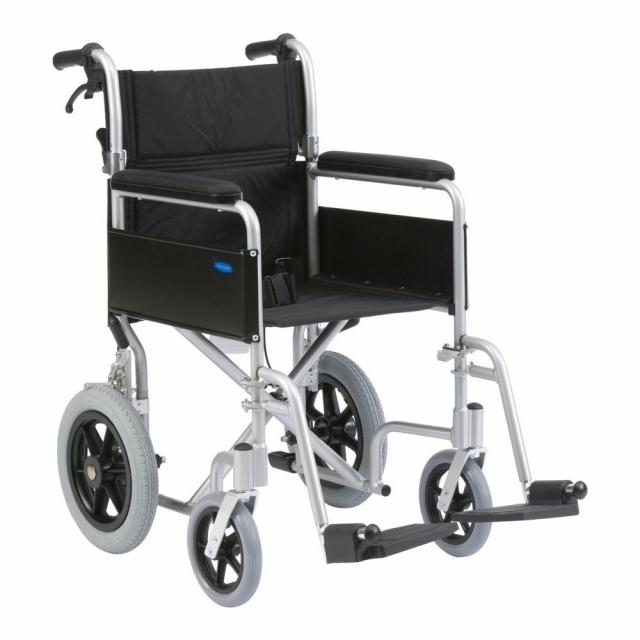wheelchair: (43, 11, 628, 616)
